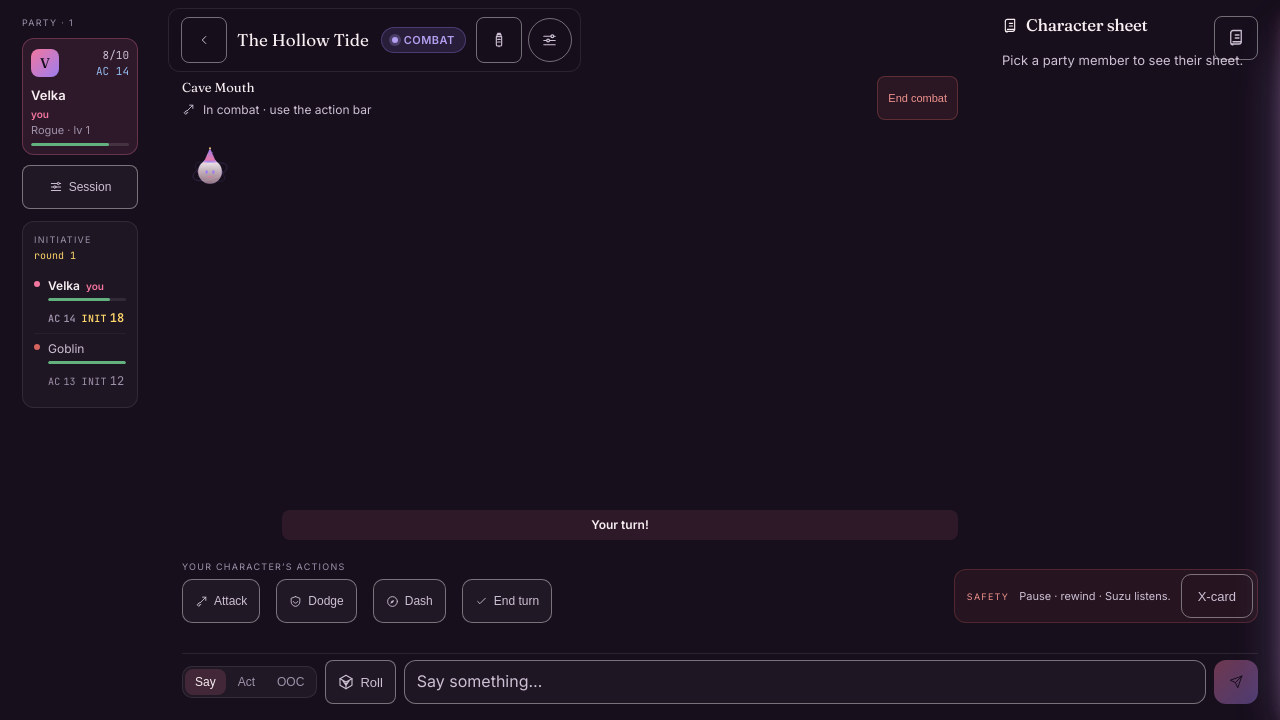
Scenario: CUI-11 — monster turn reflected in log › monster turn message appears in the chat log after end-turn
Expected: the text "The Hollow Tide" is shown, [237,27,369,53]
Click the button "End turn": click(507, 601) [462,579,552,623]
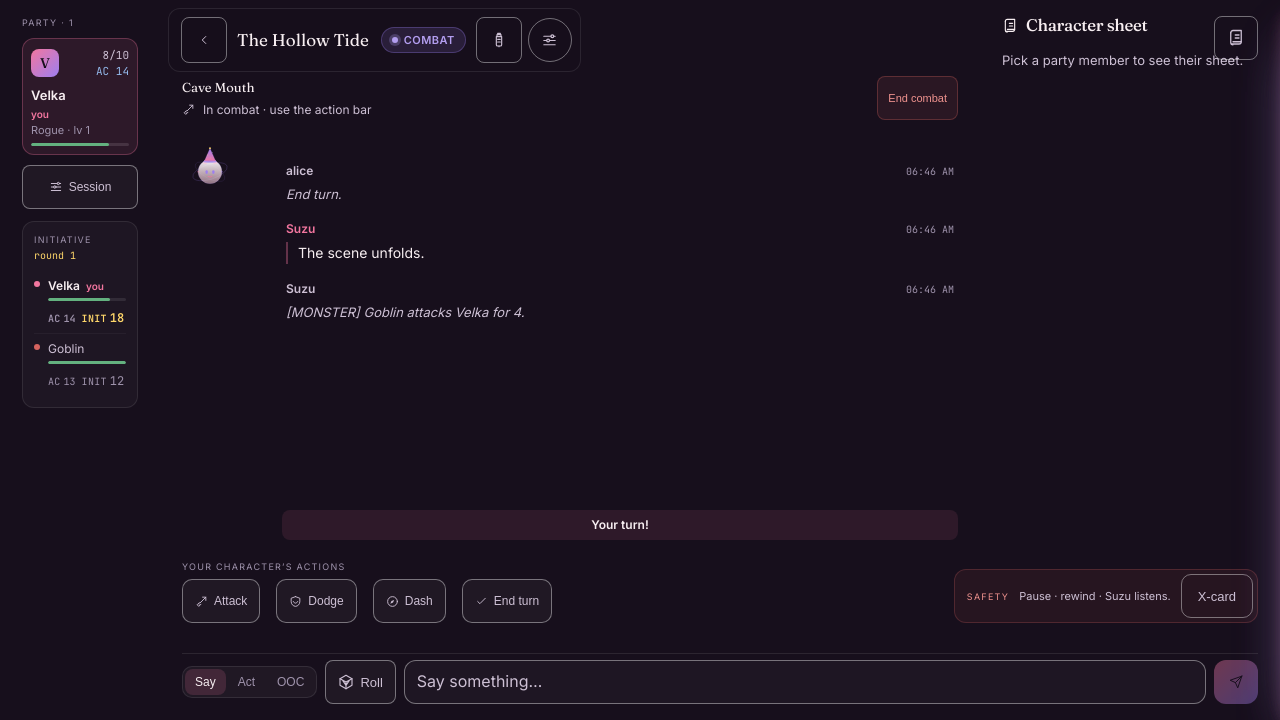
Expected: the text "[MONSTER] Goblin attacks Velka for 4." is shown, [286,304,524,320]
